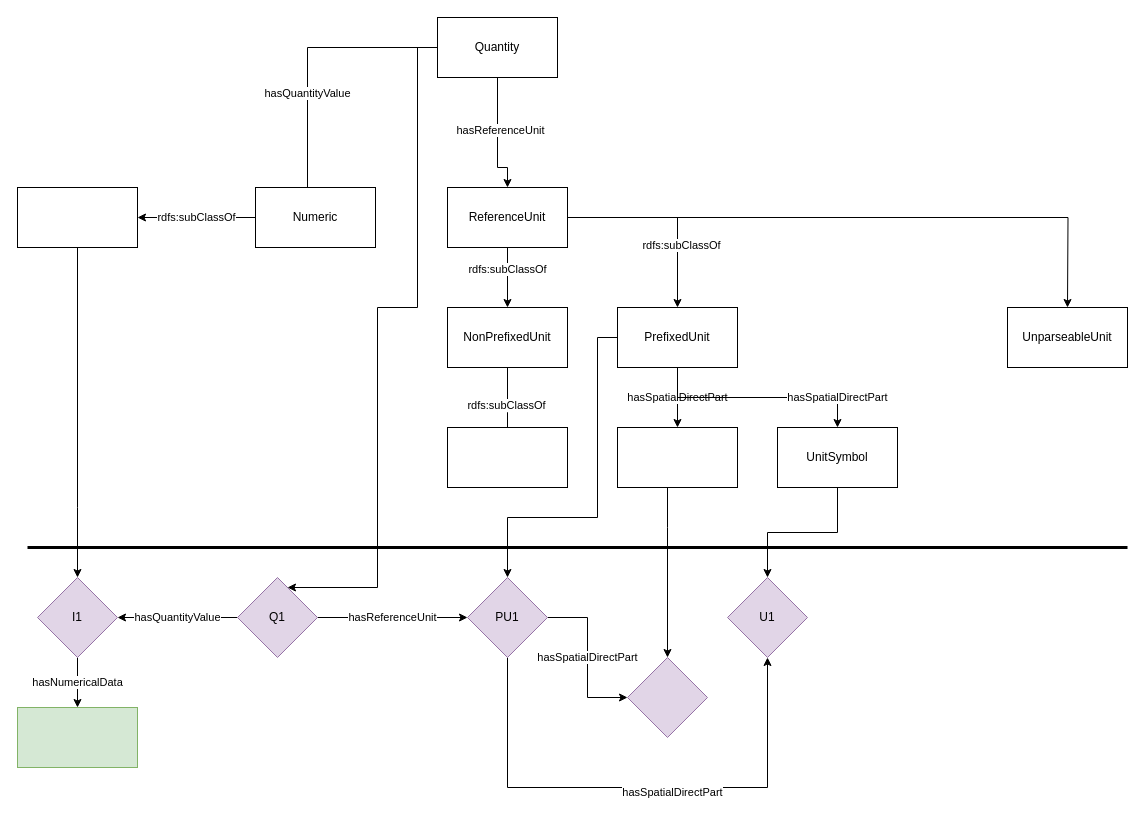
Image size: 1147x816. Some labels were removed from this diagram. The centre of each missing label's shape, as x and y in pixels:
"70^^xsd:float" belongs at pixel 77 737.
"Integer" belongs at pixel 77 217.
"M1" belongs at pixel 667 697.
"Metre" belongs at pixel 507 457.
"MetricPrefix" belongs at pixel 677 457.
